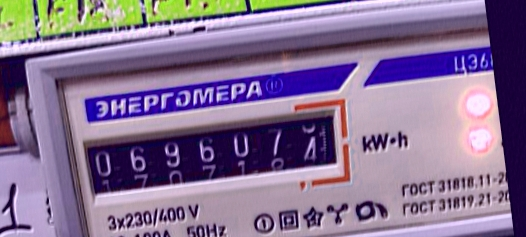0: (229, 128, 251, 160), (91, 148, 112, 178)
4: (299, 134, 318, 164)
6: (194, 134, 217, 165), (126, 142, 148, 173)
7: (265, 125, 285, 157)
9: (161, 139, 181, 169)
screen: (66, 91, 360, 214)
